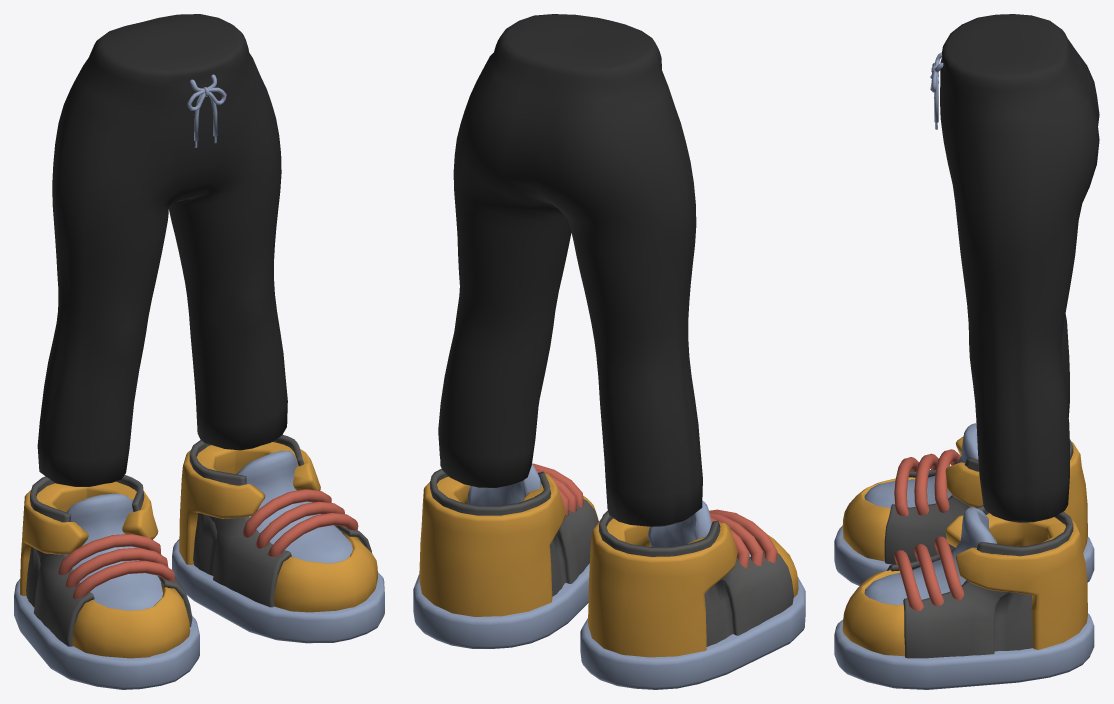
Rendered from pants2_l.fbx.
3 renders of one model, left to right at view 1: azimuth 30°, elevation 25°; view 2: azimuth 150°, elevation 25°; view 3: azimuth 270°, elevation 25°, orthographic. The views are drawn at different scales.
Visible parts, largest first — view 1: pants2_l; view 2: pants2_l; view 3: pants2_l.
Boxes of the visible parts, box(x1,y1,x2,y2) form: pants2_l: box(14, 14, 384, 689); pants2_l: box(413, 14, 805, 689); pants2_l: box(834, 14, 1099, 689).
Size of the model in its own units: 45.79 by 76.5 by 32.29.
